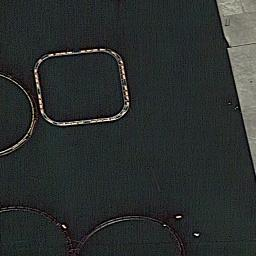circle: (76, 212, 190, 256), (1, 201, 76, 256), (1, 66, 41, 163)
square_bigger: (31, 45, 135, 130)
